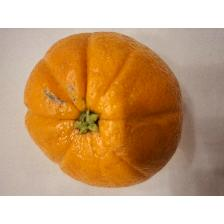Orange: (20, 32, 186, 188)
